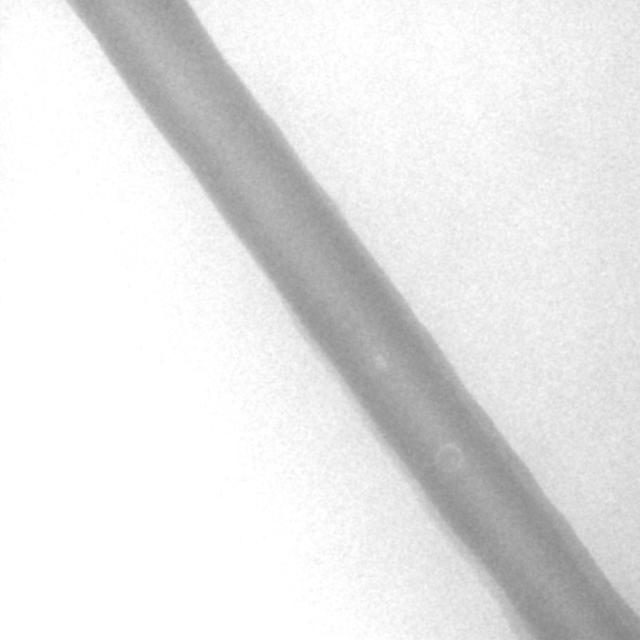hollow bead: (434, 443, 464, 479)
